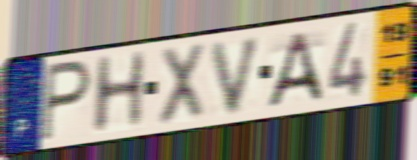4: (326, 20, 370, 102)
A: (263, 29, 325, 111)
H: (89, 48, 149, 138)
P: (38, 57, 93, 145)
V: (209, 32, 266, 118)
X: (155, 39, 209, 128)
